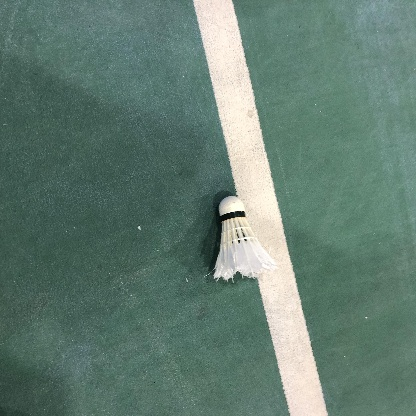ball_single: (214, 196, 277, 280)
